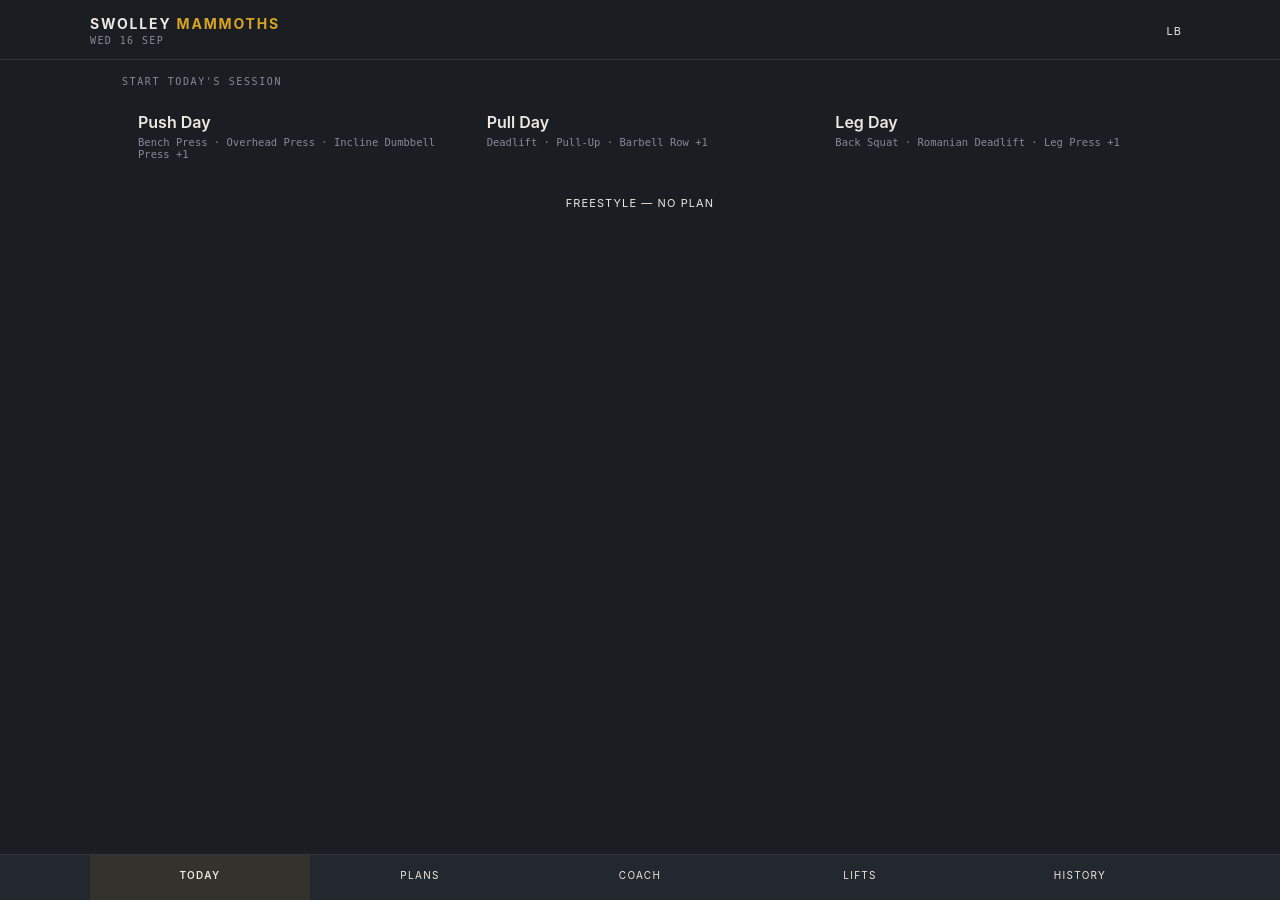
Scenario: SwolleyMammoths › starts a freestyle session and logs a set
The width and height of the screenshot is (1280, 900).
Expected: the text "SWOLLEY MAMMOTHS" is shown, [90, 15, 280, 32]
Click the button "Freestyle — no plan" at {"x": 640, "y": 203}, box [122, 183, 1158, 223]
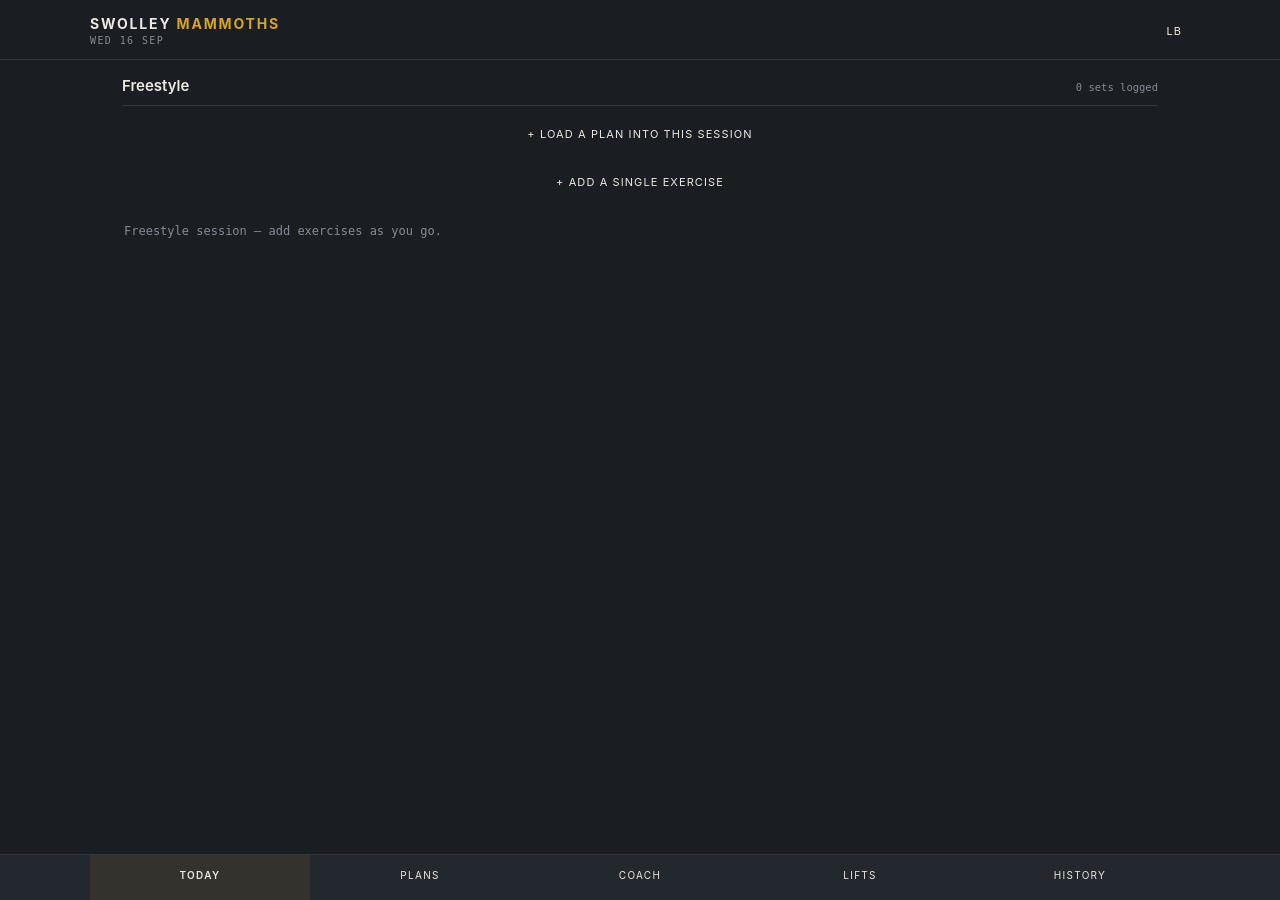
Click the button "+ Add a single exercise" at {"x": 640, "y": 182}, box [122, 162, 1158, 202]
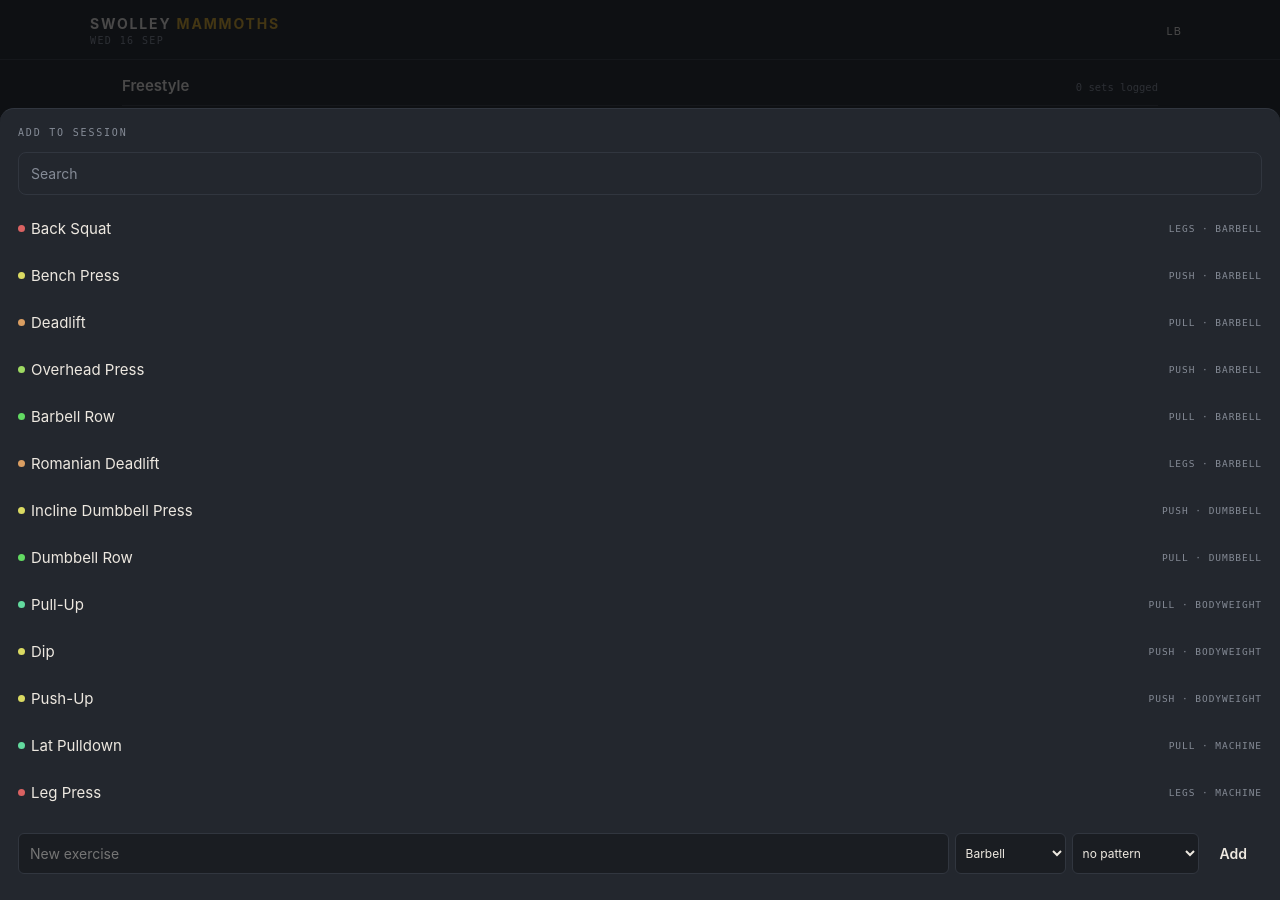
Click the text "Back Squat" at {"x": 65, "y": 228}, box [18, 219, 111, 238]
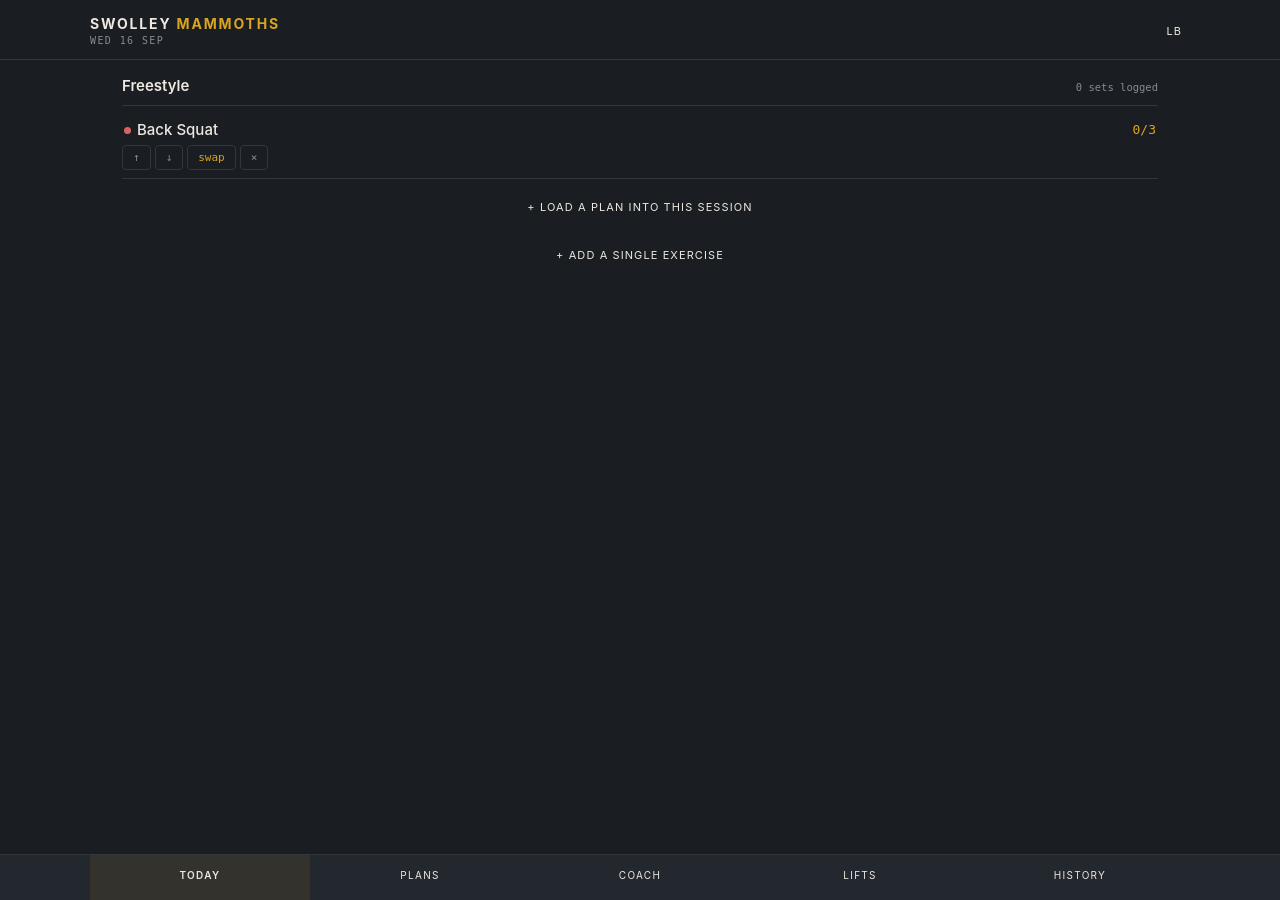
Click the text "Back Squat" at {"x": 171, "y": 130}, box [124, 120, 218, 139]
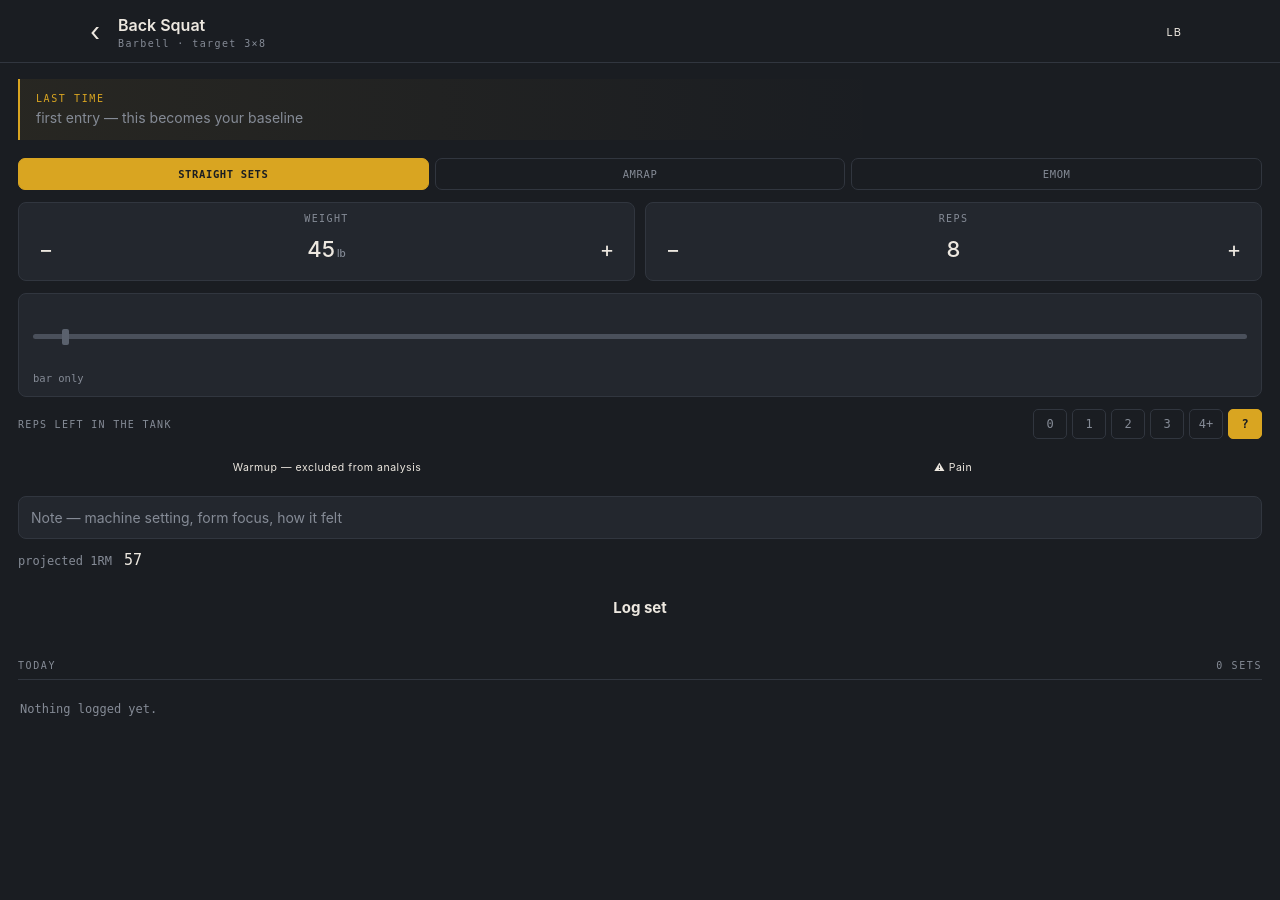
Expected: the button "Log set" is shown
Click the button "Log set" at {"x": 640, "y": 608}, box [18, 581, 1262, 634]
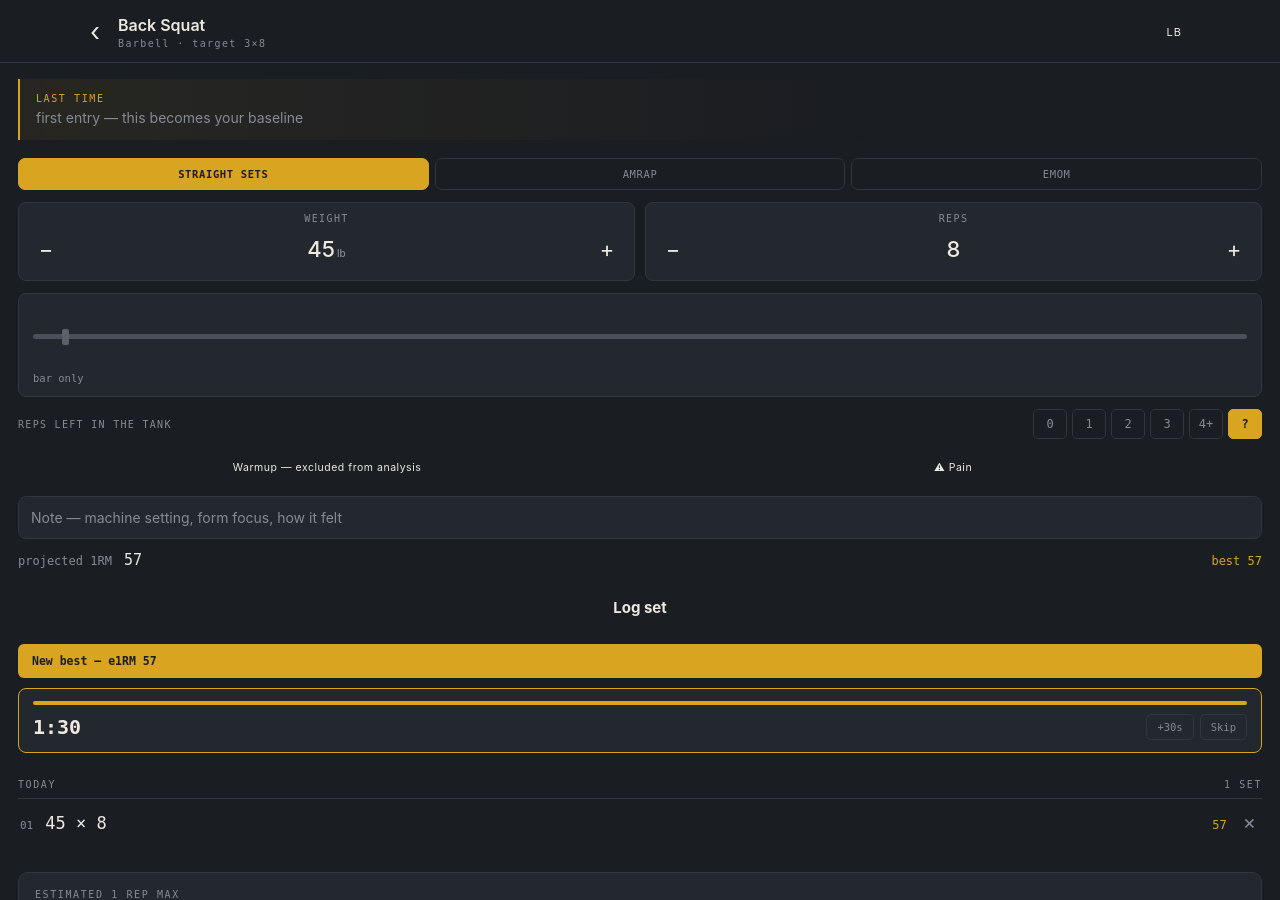
Expected: the text "New best — e1RM 57" is shown, [18, 644, 1262, 678]
